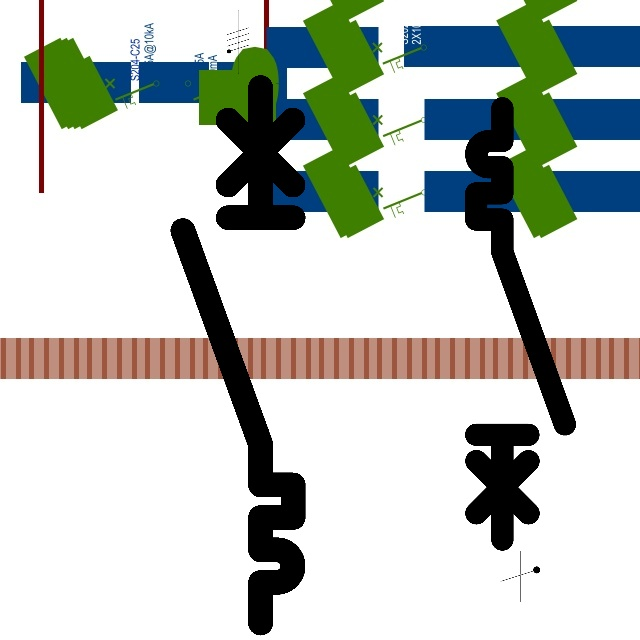interruptor_termomagnetico: (169, 73, 307, 637), (465, 97, 576, 551)
